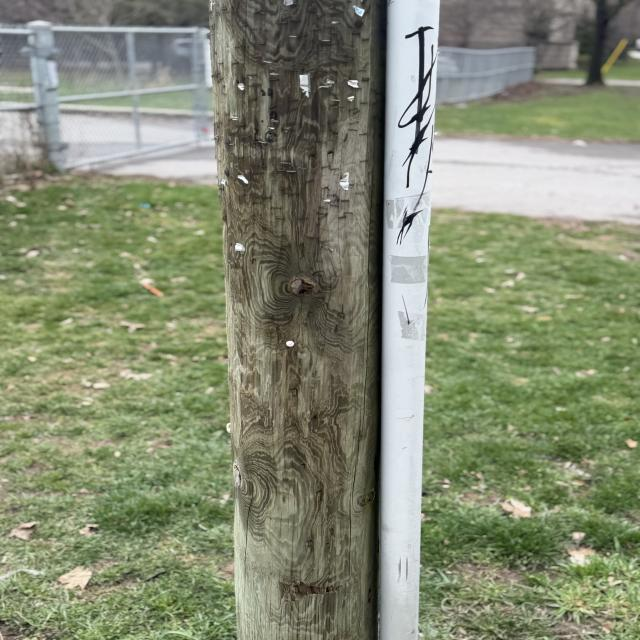Electrical Pole: (202, 3, 388, 639)
